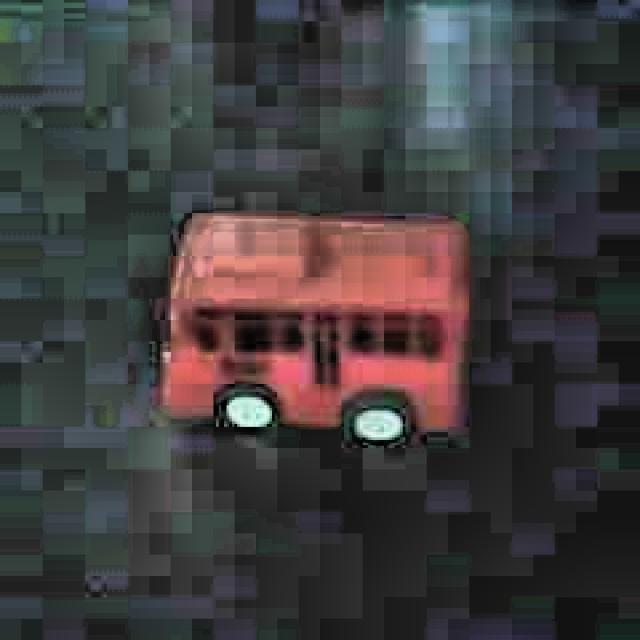bus: (148, 203, 479, 459)
